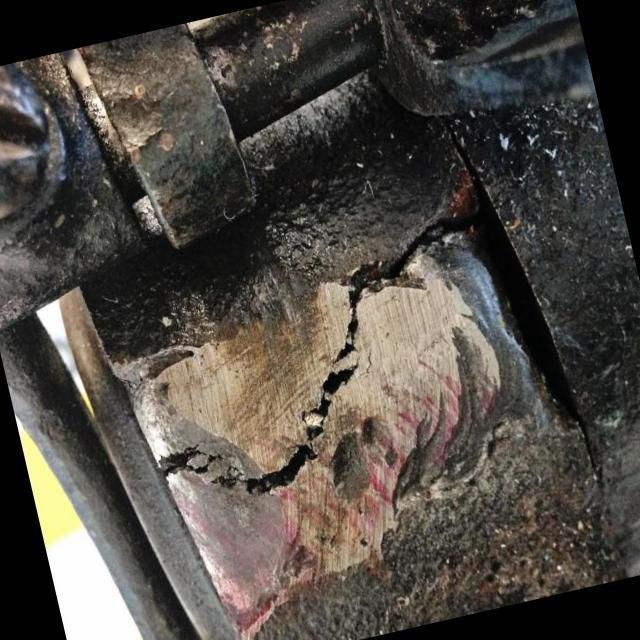defect: (150, 203, 491, 501)
